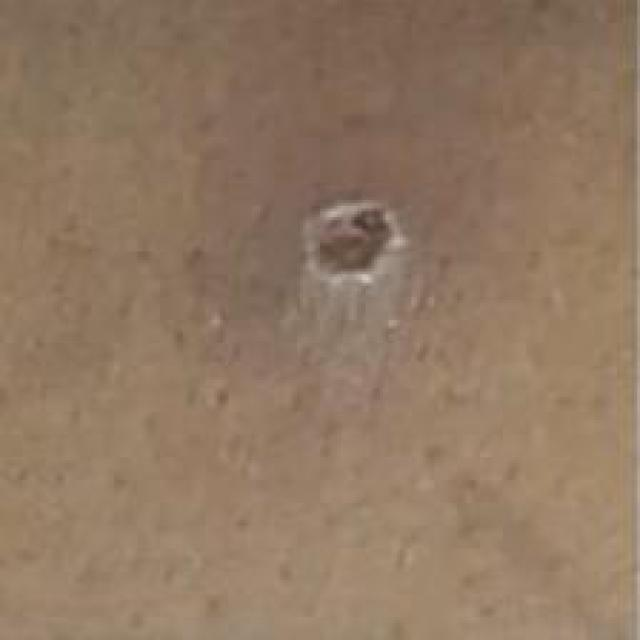monkeypox: (213, 138, 522, 510)
